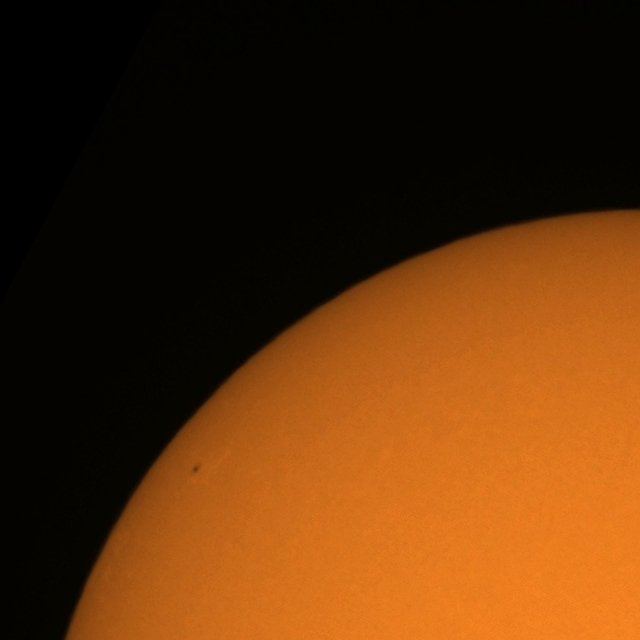sunspot: (190, 462, 202, 477)
